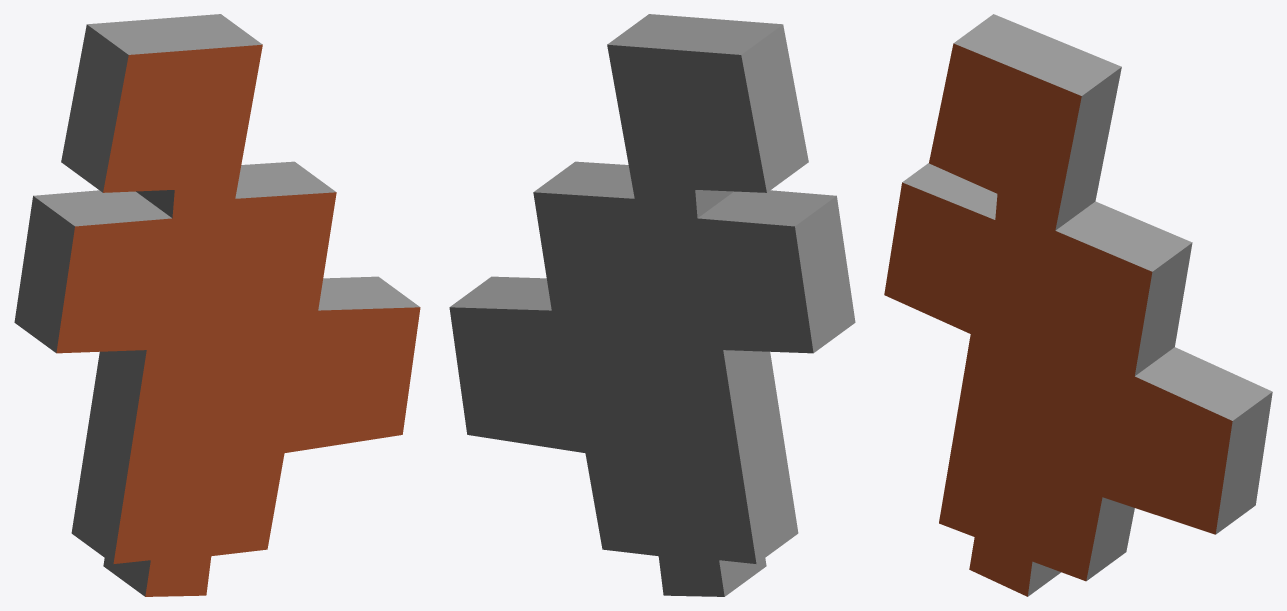
Rendered from construction_6932_assumed_A_Casa_h6m.obj.
3 renders of one model, left to right at view 1: azimuth 30°, elevation 25°; view 2: azimuth 150°, elevation 25°; view 3: azimuth 330°, elevation 25°, orthographic. The views are drawn at different scales.
Parts seen in each view (by area): view 1: construction_6932_assumed_A_Casa; view 2: construction_6932_assumed_A_Casa; view 3: construction_6932_assumed_A_Casa.
Boxes of the visible parts, bbox=[...] form: construction_6932_assumed_A_Casa: bbox=[14, 14, 420, 596]; construction_6932_assumed_A_Casa: bbox=[449, 14, 855, 596]; construction_6932_assumed_A_Casa: bbox=[884, 14, 1272, 596].
Size of the model in its own units: 30.07 by 44.16 by 6.
